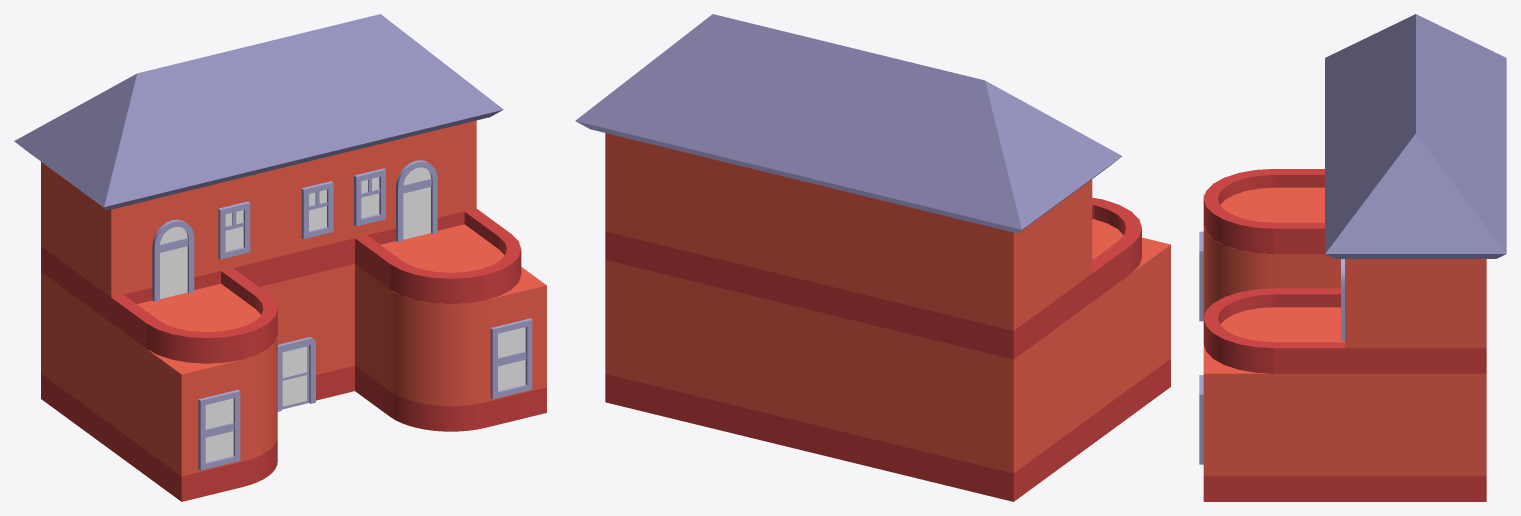
The model's file is building2.fbx.
3 views of the same model, side by side, from view 1: azimuth 30°, elevation 25°; view 2: azimuth 150°, elevation 25°; view 3: azimuth 270°, elevation 25° (orthographic). The views are drawn at different scales.
Visible parts, largest first — view 1: mergedBlocks; view 2: mergedBlocks; view 3: mergedBlocks.
Boxes of the visible parts, box(x1,y1,x2,y2) form: mergedBlocks: box(14, 14, 546, 501); mergedBlocks: box(575, 14, 1170, 501); mergedBlocks: box(1199, 14, 1506, 501).
Bounding box in the file's own units: 32.83 × 26.41 × 21.71.
